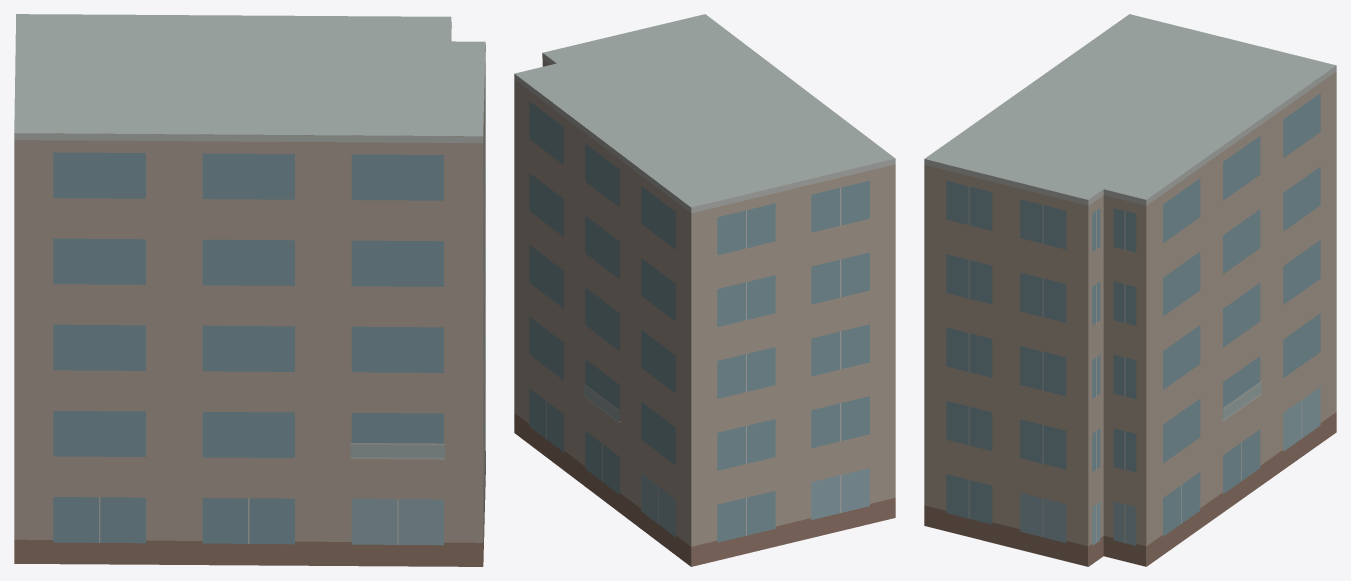
Rendered from survey-upis-32873776.glb.
The picture shows the model from 3 angles, left to right: view 1: azimuth 30°, elevation 25°; view 2: azimuth 150°, elevation 25°; view 3: azimuth 270°, elevation 25°; orthographic projection. The views are drawn at different scales.
Visible parts, largest first — view 1: survey-upis-32873776.tmp; view 2: survey-upis-32873776.tmp; view 3: survey-upis-32873776.tmp.
Part boxes in pixels (x1,y1,x2,y2): survey-upis-32873776.tmp: (14, 14, 485, 566); survey-upis-32873776.tmp: (514, 14, 895, 566); survey-upis-32873776.tmp: (924, 14, 1336, 566).
Bounding box in the file's own units: 16.59 × 15.25 × 15.54.
